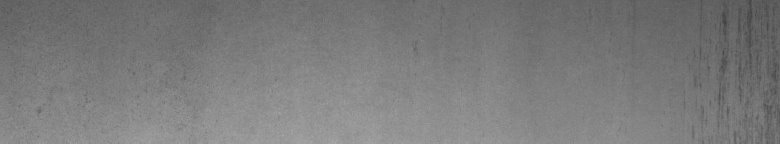ka: (710, 4, 776, 127)
